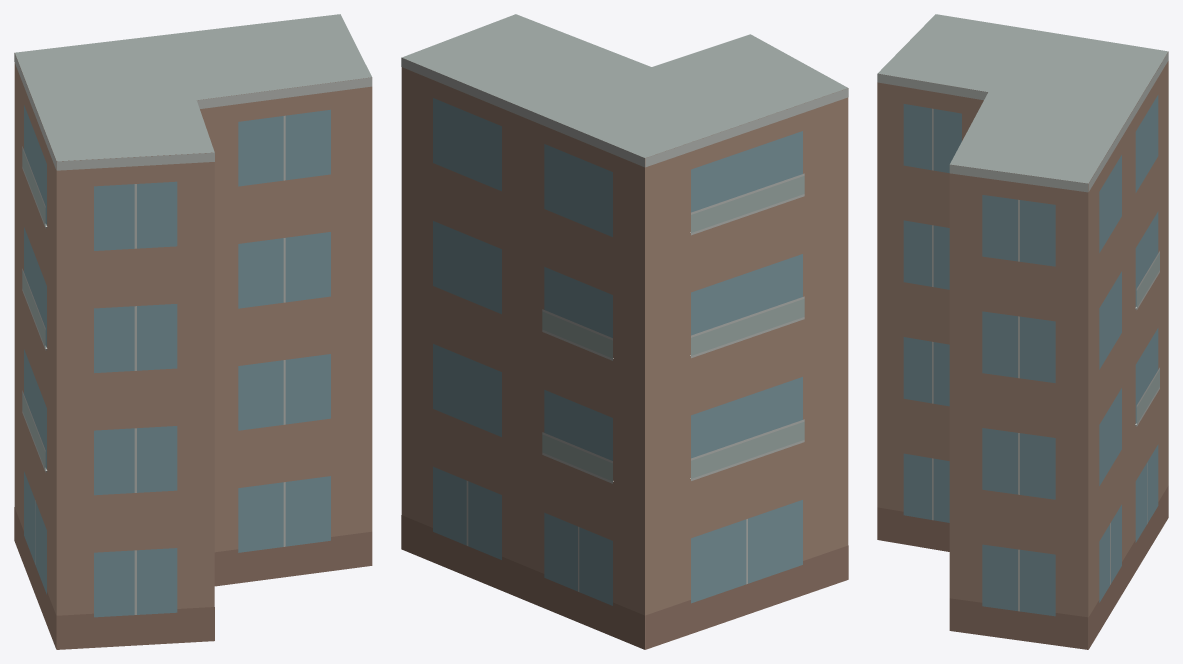
Rendered from survey-upis-33034207.glb.
3 views of the same model, side by side, from view 1: azimuth 30°, elevation 25°; view 2: azimuth 150°, elevation 25°; view 3: azimuth 270°, elevation 25° (orthographic). The views are drawn at different scales.
Parts seen in each view (by area): view 1: survey-upis-33034207.tmp; view 2: survey-upis-33034207.tmp; view 3: survey-upis-33034207.tmp.
Boxes of the visible parts, x1,y1,x2,y2 form: survey-upis-33034207.tmp: [14, 14, 372, 649]; survey-upis-33034207.tmp: [401, 14, 848, 649]; survey-upis-33034207.tmp: [877, 14, 1168, 649].
Size of the model in its own units: 9.99 by 12.8 by 7.25.
